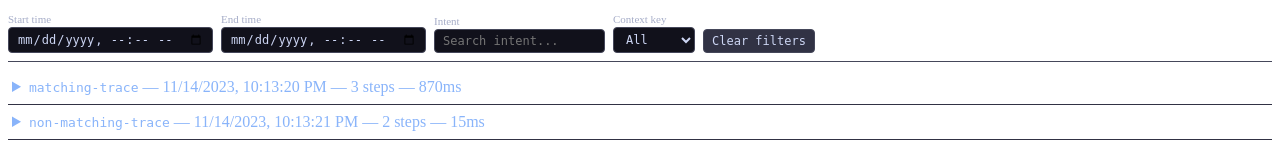
TraceTab › combined filters › applies AND logic across filters
Type "dashboard" into the field named "Filter by intent". click: (520, 41)
box: left=434, top=29, right=605, bottom=53
Wait 250 ms
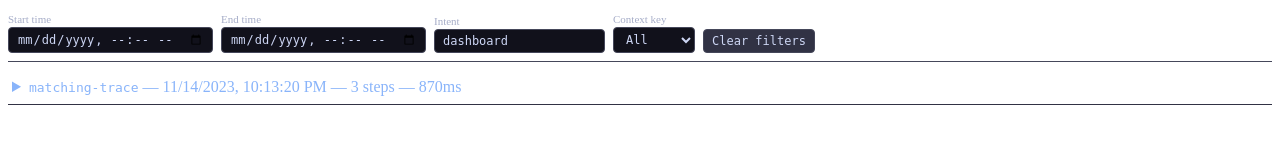
Check: the text "matching-trace" is shown, box left=29, top=80, right=138, bottom=95
Check: the heading "non-matching-trace" is gone
